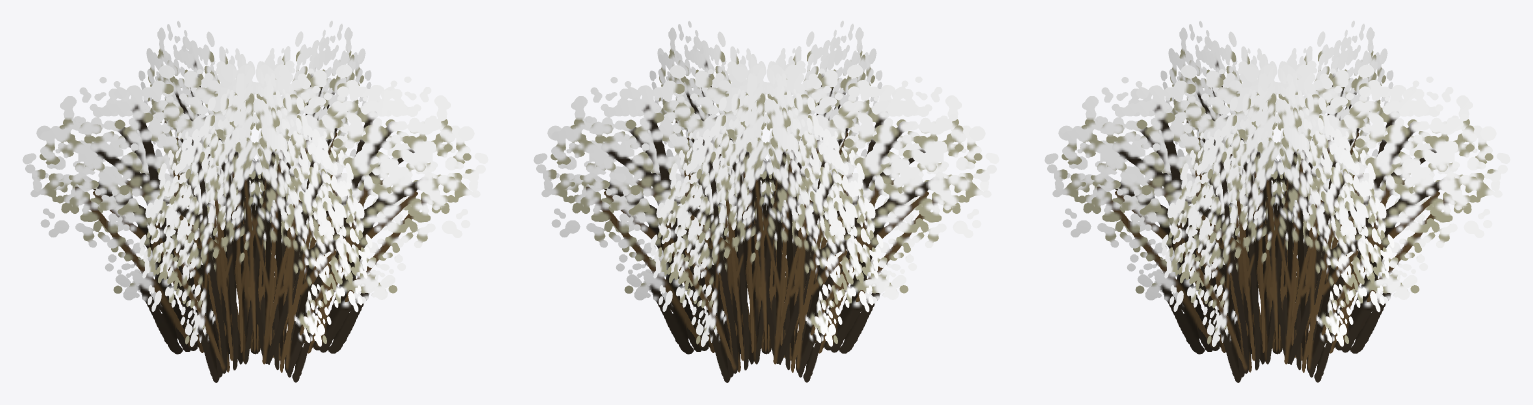
File: painted-bush-023.glb
3 views of the same model, side by side, from view 1: azimuth 30°, elevation 25°; view 2: azimuth 150°, elevation 25°; view 3: azimuth 270°, elevation 25° (orthographic).
Size of the model in its own units: 8.78 by 7.19 by 10.13.
Materials: 1 (1 with a texture image).
